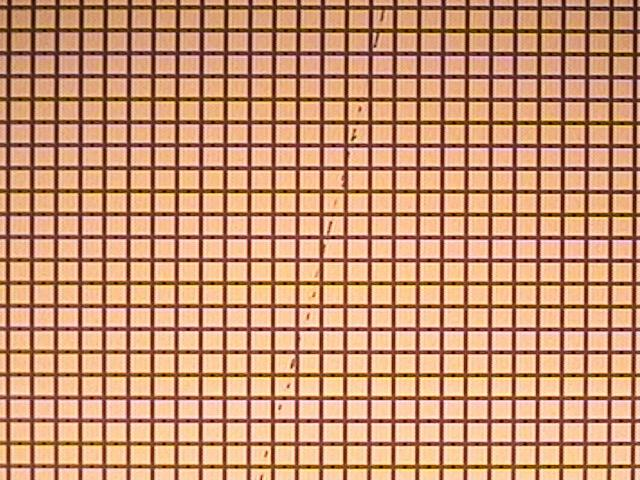SCRATCH: (253, 1, 397, 480)
